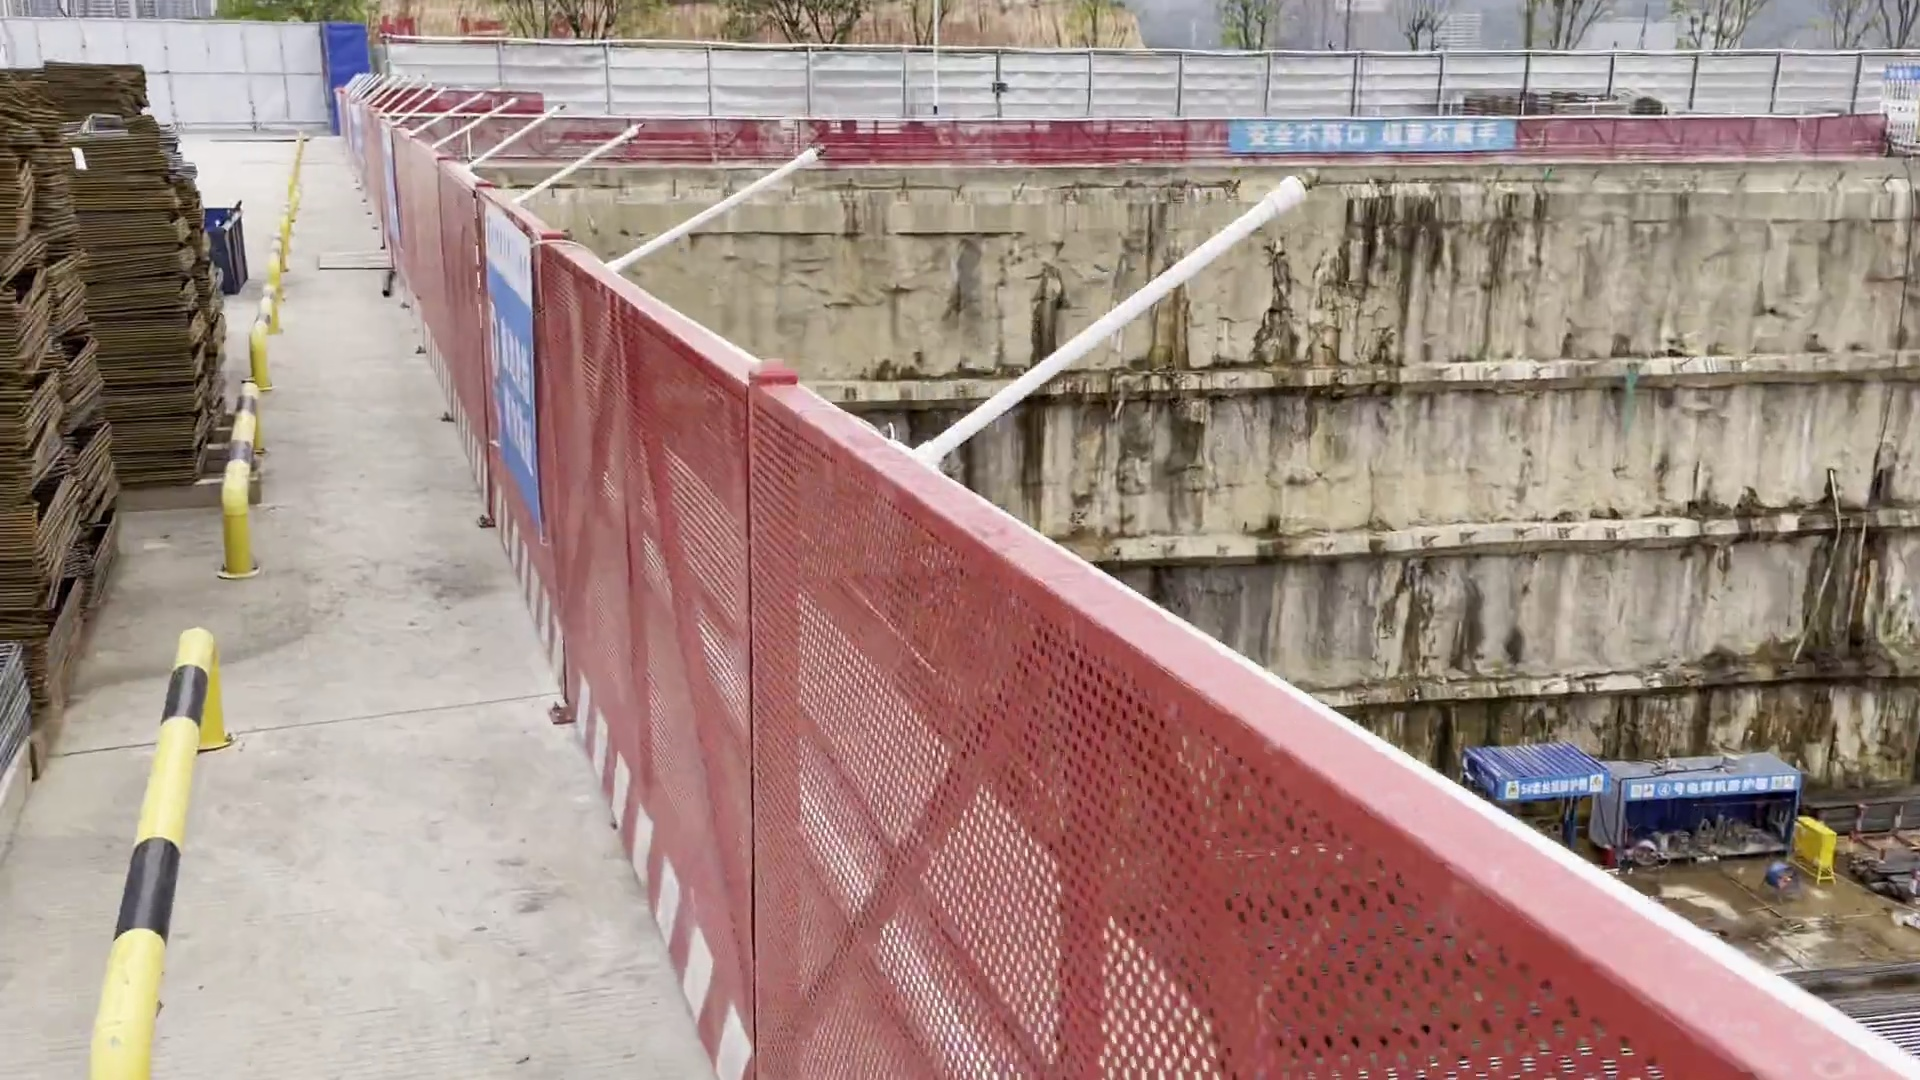ebox: (1793, 814, 1841, 877)
fence: (807, 396, 1920, 1080), (463, 220, 831, 1080), (576, 112, 1920, 175), (326, 92, 526, 484)
hopper: (196, 187, 258, 299)
slogan: (464, 189, 579, 537), (1213, 112, 1520, 175), (1607, 773, 1822, 806), (367, 124, 414, 251), (1495, 773, 1613, 804)
